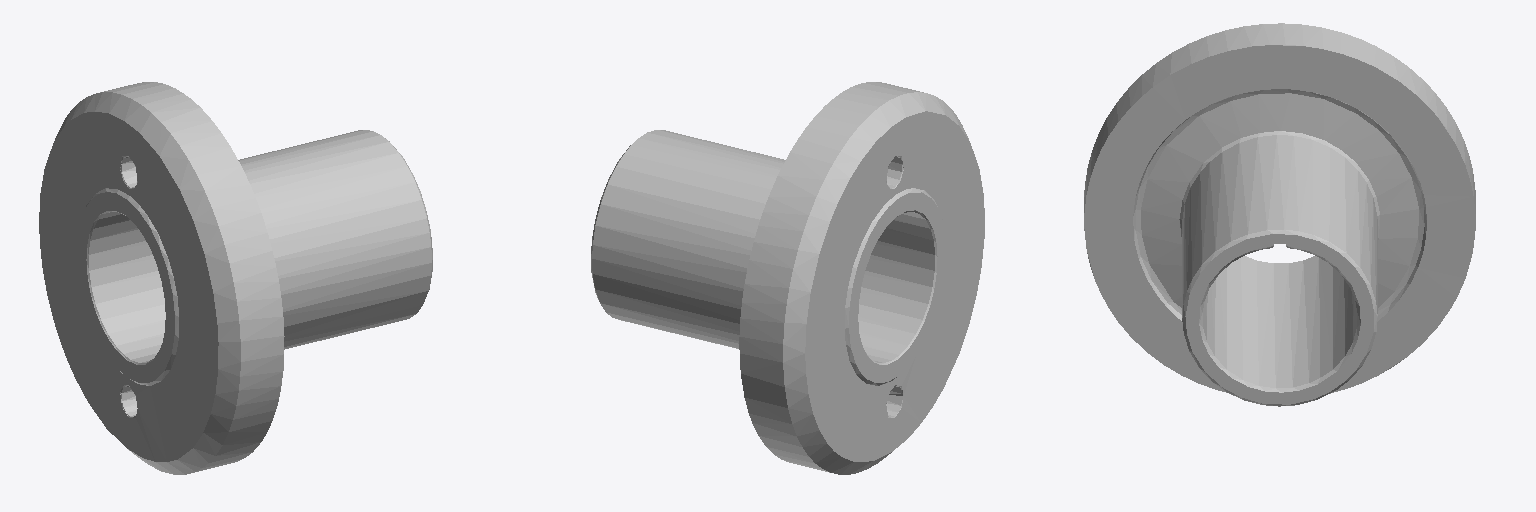
Rendered from unloading disk.obj.
3 views of the same model, side by side, from view 1: azimuth 30°, elevation 25°; view 2: azimuth 150°, elevation 25°; view 3: azimuth 270°, elevation 25° (orthographic).
Visible parts, largest first — view 1: imagetostl_mesh; view 2: imagetostl_mesh; view 3: imagetostl_mesh.
Part boxes in pixels (x1,y1,x2,y2): imagetostl_mesh: (39, 82, 432, 474); imagetostl_mesh: (591, 82, 984, 474); imagetostl_mesh: (1084, 23, 1475, 406).
Size of the model in its own units: 184 by 240 by 240.